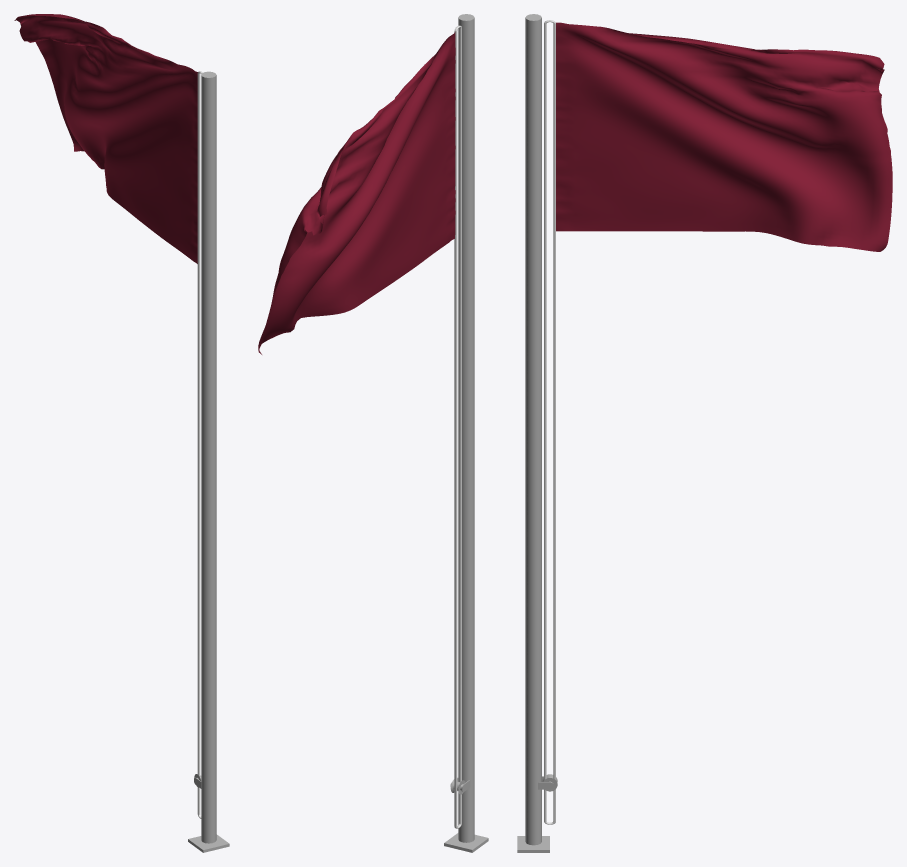
File: Red flag.fbx
3 views of the same model, side by side, from view 1: azimuth 30°, elevation 25°; view 2: azimuth 150°, elevation 25°; view 3: azimuth 270°, elevation 25° (orthographic). The views are drawn at different scales.
Visible parts, largest first — view 1: Плоскость, ТраекторияNurbs, Цилиндр.003; view 2: Плоскость, ТраекторияNurbs, Цилиндр.003, Куб.002; view 3: Плоскость, ТраекторияNurbs, Цилиндр.003.
Boxes of the visible parts, x1,y1,x2,y2 form: Плоскость: (14,14,197,263); ТраекторияNurbs: (201,71,216,843); Цилиндр.003: (197,71,202,818); Плоскость: (258,32,455,354); ТраекторияNurbs: (458,14,474,842); Цилиндр.003: (454,25,461,828); Куб.002: (444,833,488,852); Плоскость: (556,22,892,251); ТраекторияNurbs: (525,14,541,845); Цилиндр.003: (544,20,555,824).
Bounding box in the file's own units: 51.53 × 557 × 229.
